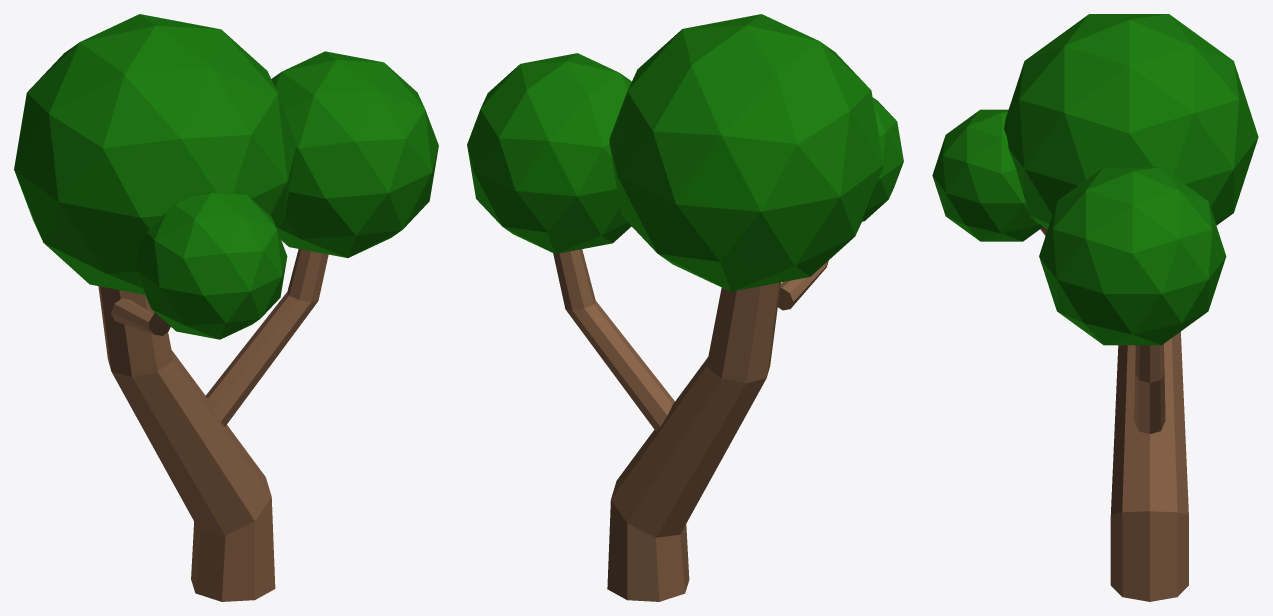
File: Tree3.fbx
The picture shows the model from 3 angles, left to right: view 1: azimuth 30°, elevation 25°; view 2: azimuth 150°, elevation 25°; view 3: azimuth 270°, elevation 25°; orthographic projection. The views are drawn at different scales.
Parts seen in each view (by area): view 1: Tree3; view 2: Tree3; view 3: Tree3.
Part boxes in pixels (x1,y1,x2,y2): Tree3: (14, 14, 438, 601); Tree3: (467, 14, 903, 601); Tree3: (932, 14, 1258, 601).
Size of the model in its own units: 514 by 744 by 418.
